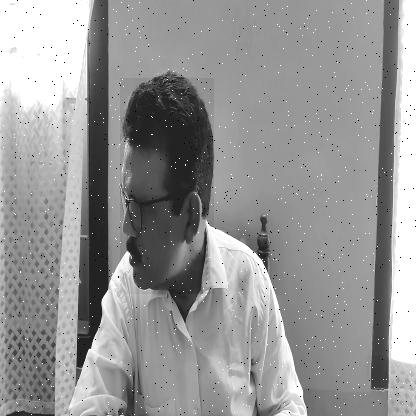Distracted: (120, 78, 214, 294)
